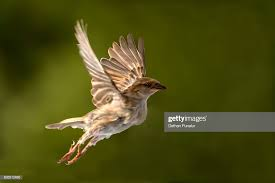hsparrow: (33, 17, 169, 167)
